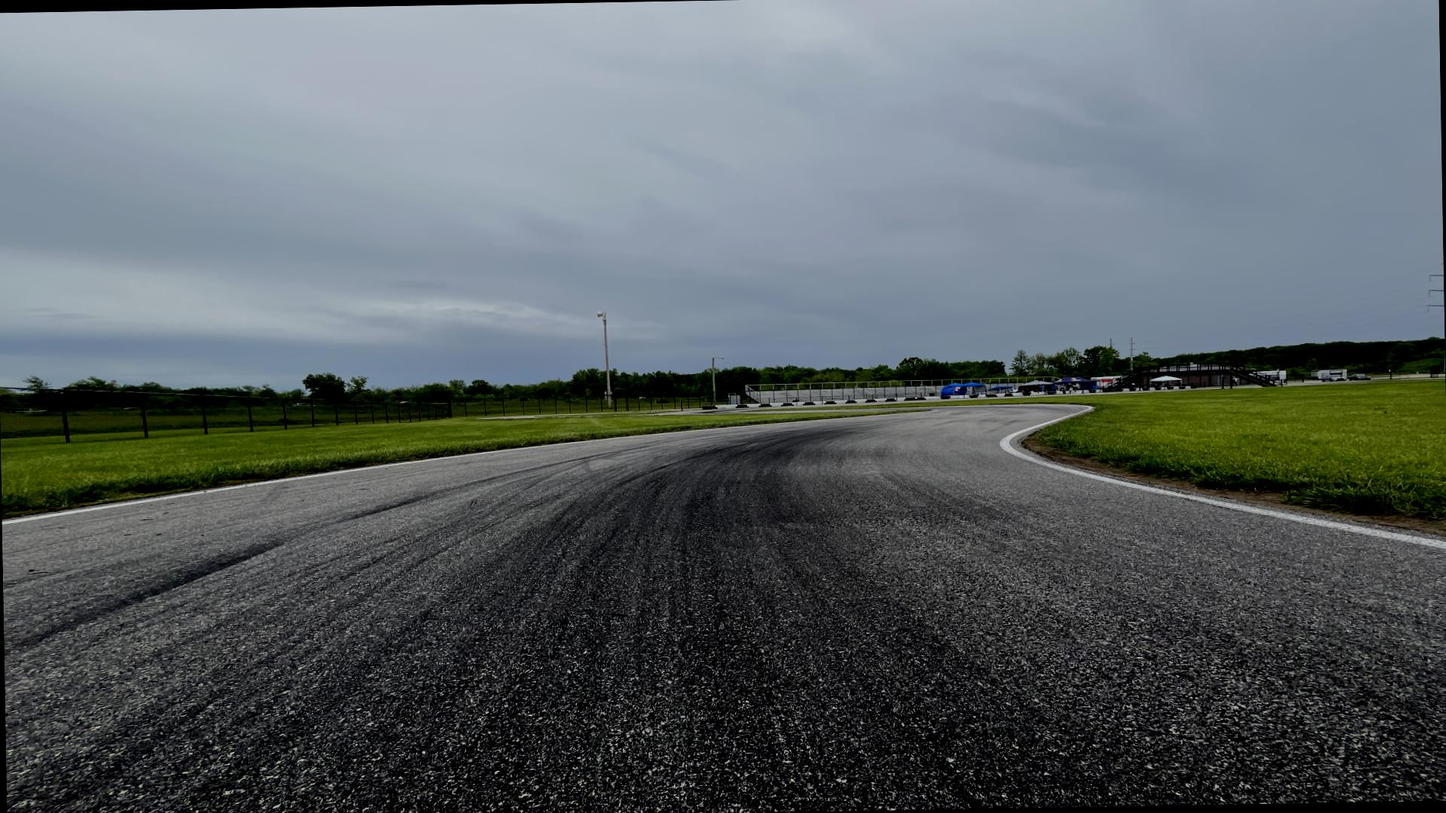white-line: (2, 413, 899, 525), (999, 404, 1445, 550)
